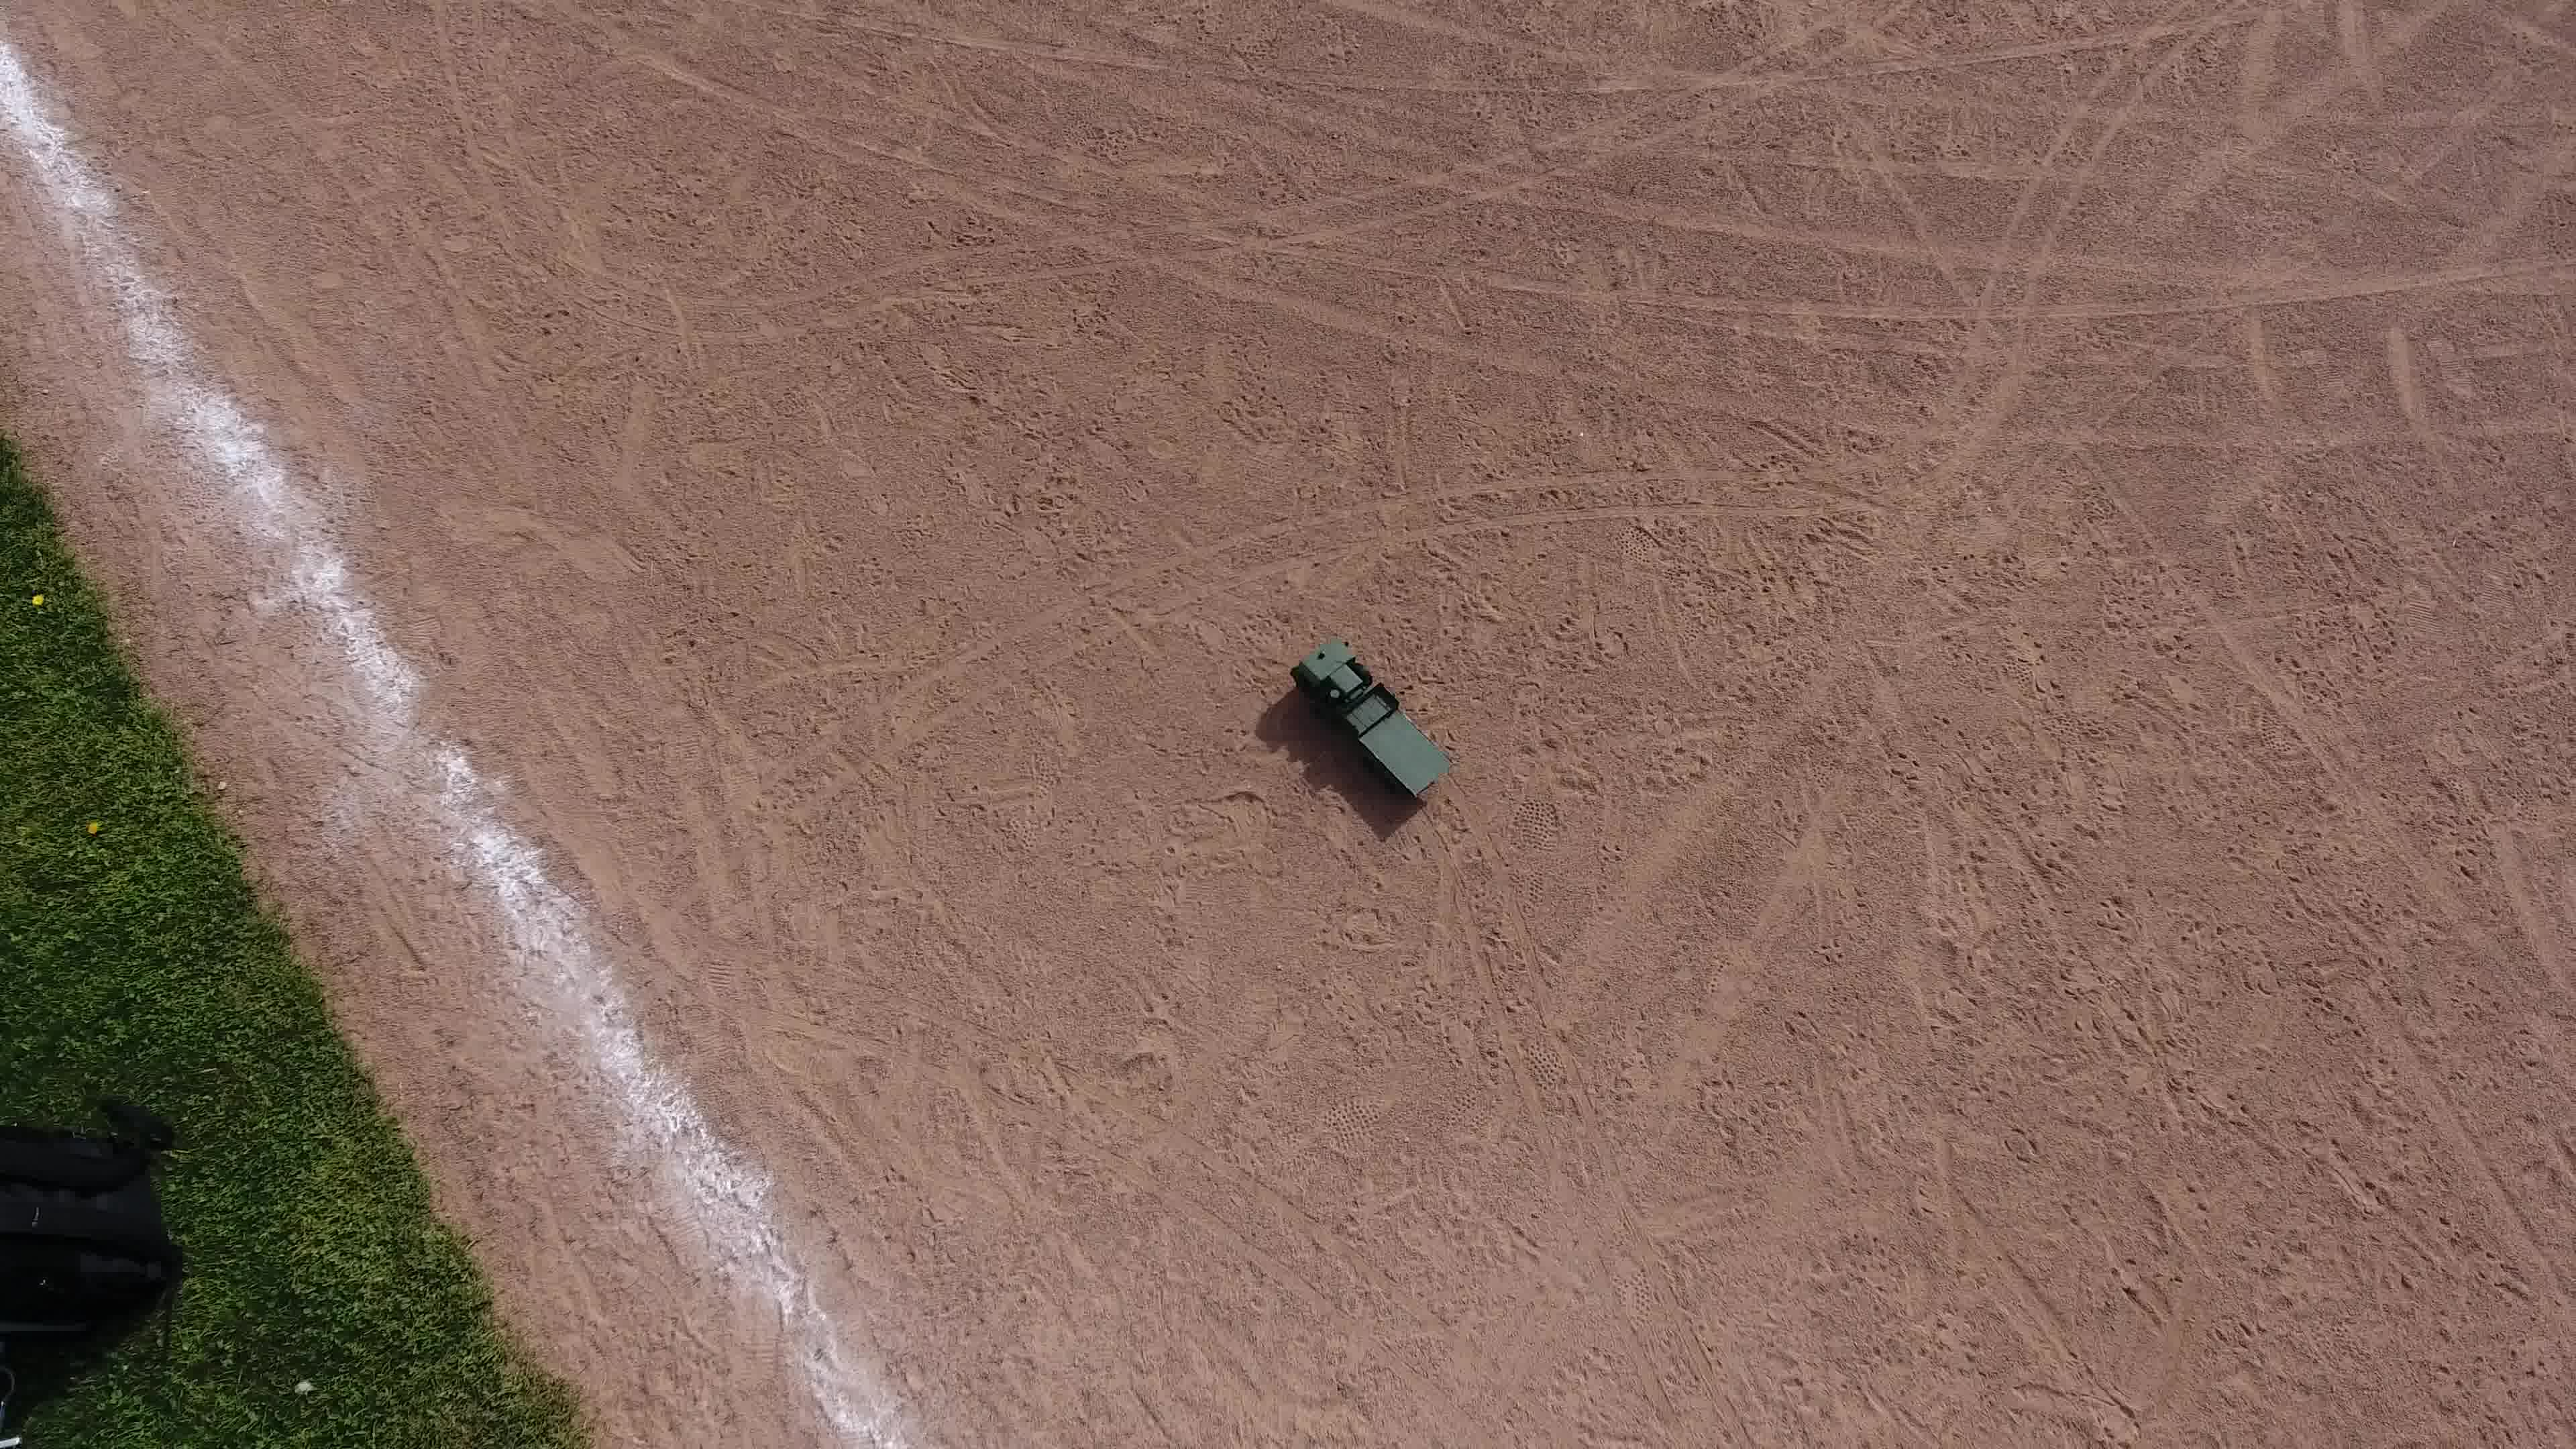transporter9: (1283, 633, 1460, 817)
